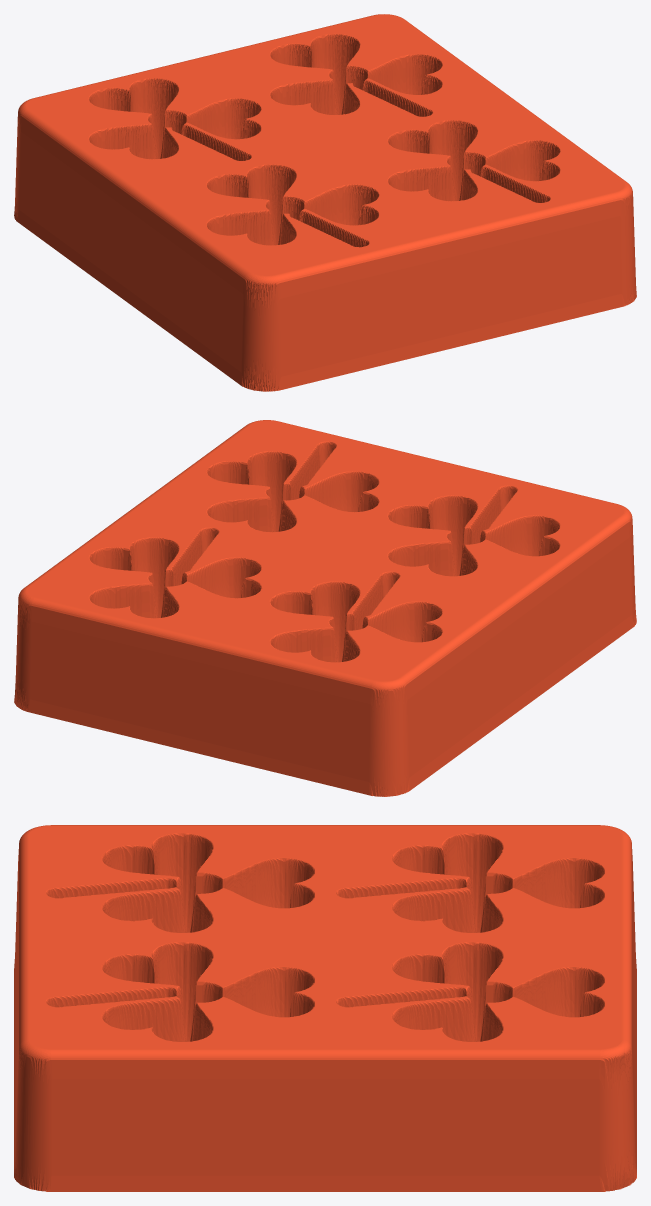
The model's file is mold.glb.
3 renders of one model, top to bottom at view 1: azimuth 30°, elevation 25°; view 2: azimuth 150°, elevation 25°; view 3: azimuth 270°, elevation 25°, orthographic. The views are drawn at different scales.
Parts seen in each view (by area): view 1: geometry_0; view 2: geometry_0; view 3: geometry_0.
Boxes of the visible parts, x1,y1,x2,y2 form: geometry_0: (14, 14, 636, 391); geometry_0: (14, 420, 636, 796); geometry_0: (14, 825, 636, 1191).
Bounding box in the file's own units: 0.1338 × 0.036 × 0.1493.
